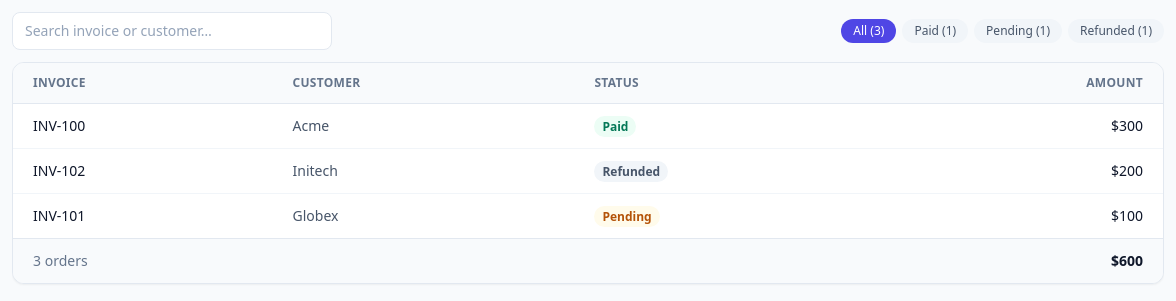
Test case: <FilterableOrders /> › shows an empty state when nothing matches
Type "zzz" into the search field with test id "order-search".
click(172, 31); type("zzz")  # box [12,12,332,50]
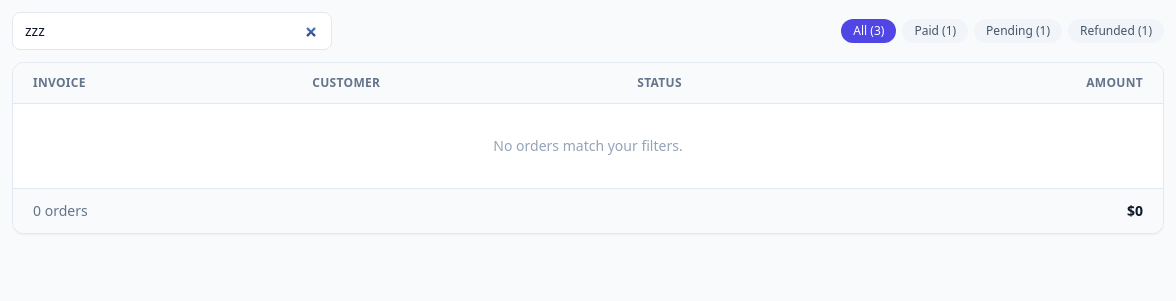
Expected: the cell with test id "orders-empty" is shown, [13,104,1163,188]
